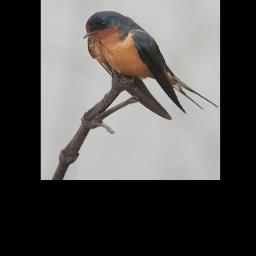Swallow: (81, 9, 217, 119)
